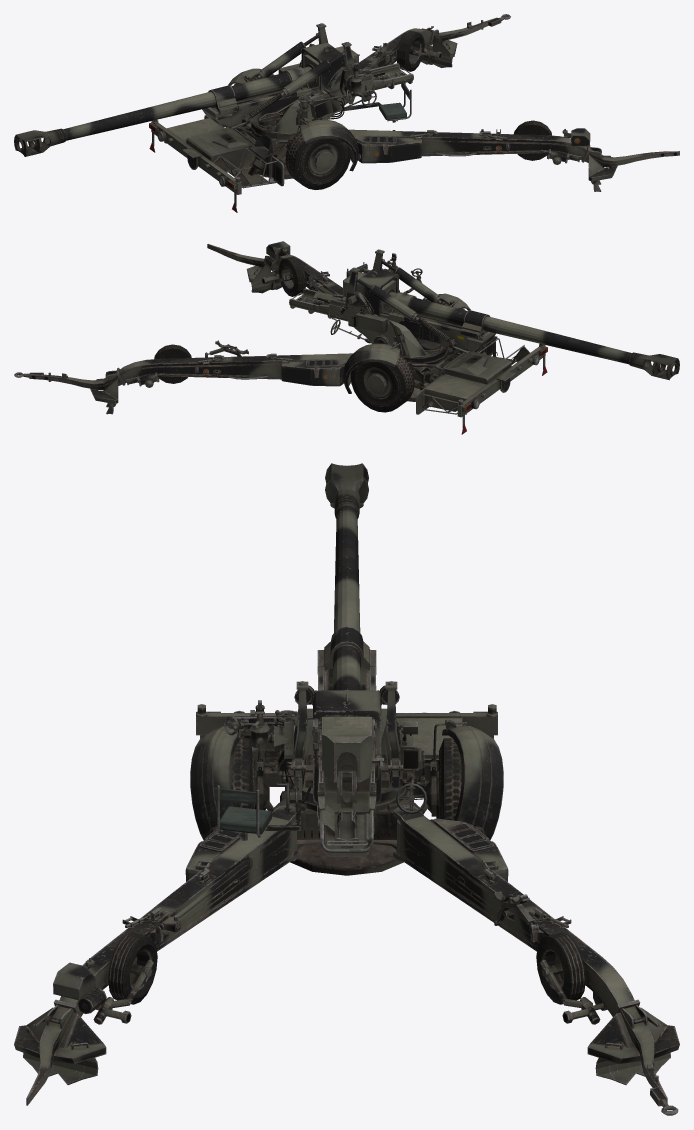
3 renders of one model, top to bottom at view 1: azimuth 30°, elevation 25°; view 2: azimuth 150°, elevation 25°; view 3: azimuth 270°, elevation 25°, orthographic. The views are drawn at different scales.
Visible parts, largest first — view 1: body, trailR, cradle, barrel, trailL, w0R; view 2: body, trailL, cradle, trailR, barrel, w0L; view 3: body, trailL, trailR, cradle, barrel, w0L, w0R.
Part boxes in pixels (x1,y1,x2,y2): body: (149,23,413,212); trailR: (349,120,679,191); cradle: (211,23,370,129); barrel: (14,90,230,156); trailL: (358,14,510,71); w0R: (285,119,351,189); body: (289,249,547,434); trailL: (14,340,352,414); cradle: (331,250,487,353); trailR: (207,241,342,296); barrel: (468,315,679,380); w0L: (350,343,414,412); body: (190,681,503,875); trailL: (393,805,679,1115); trailR: (14,805,300,1105); cradle: (294,626,399,806); barrel: (325,463,368,632); w0L: (432,722,466,820); w0R: (227,722,261,809).
Bounding box in the file's own units: 11.92 × 2.71 × 6.73.
1 material, 1 textured.
